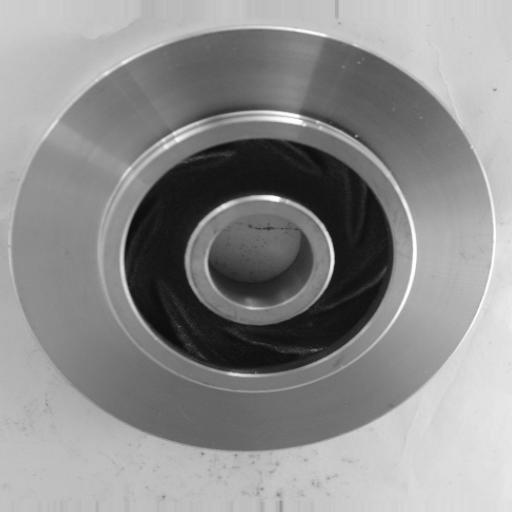polished_casting: (12, 24, 498, 457)
